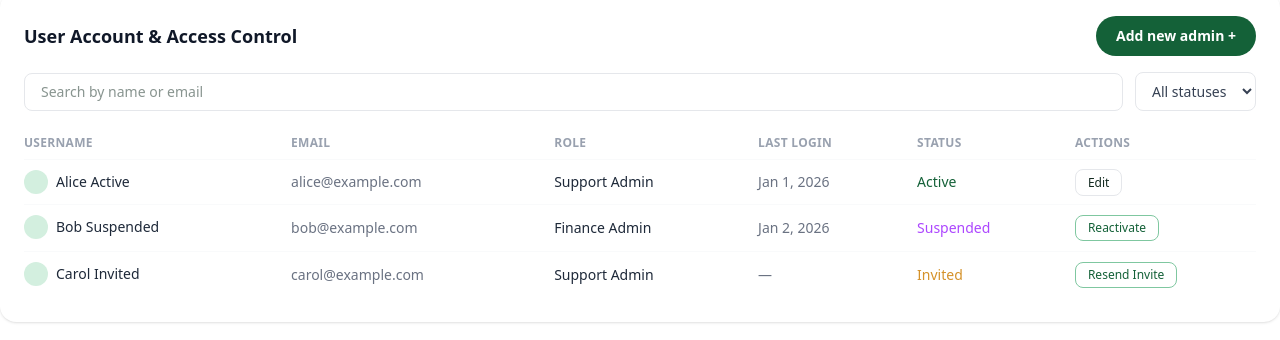
Scenario: UserManagementTable › shows an empty state when the search/filter matches nothing
Step 1. Type "nobody-matches-this" into the search field with placeholder "Search by name or email" → (574, 92), box x1=24 y1=72 x2=1123 y2=110
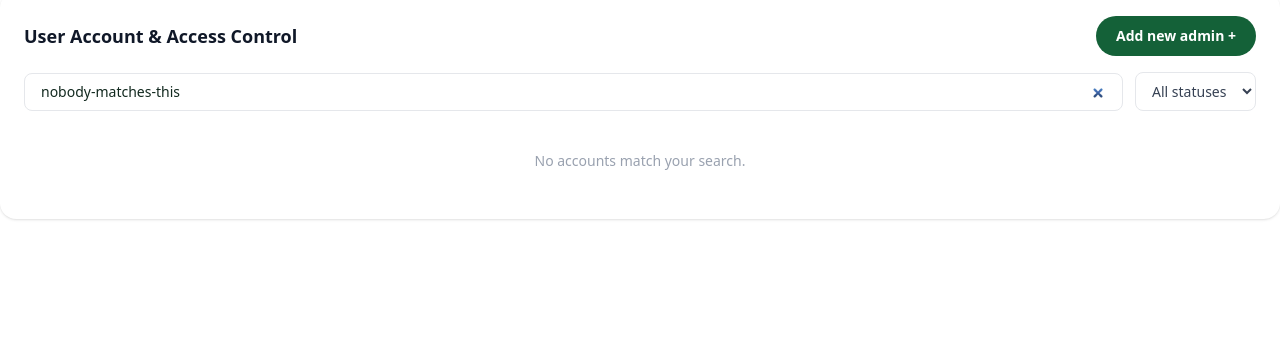
Expected: the text "No accounts match your search." is shown, x1=534 y1=151 x2=746 y2=170
